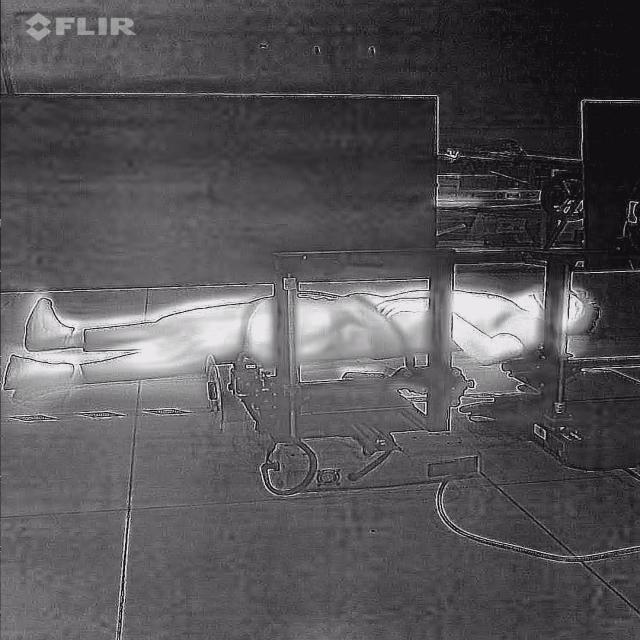Victim: (0, 267, 608, 398)
